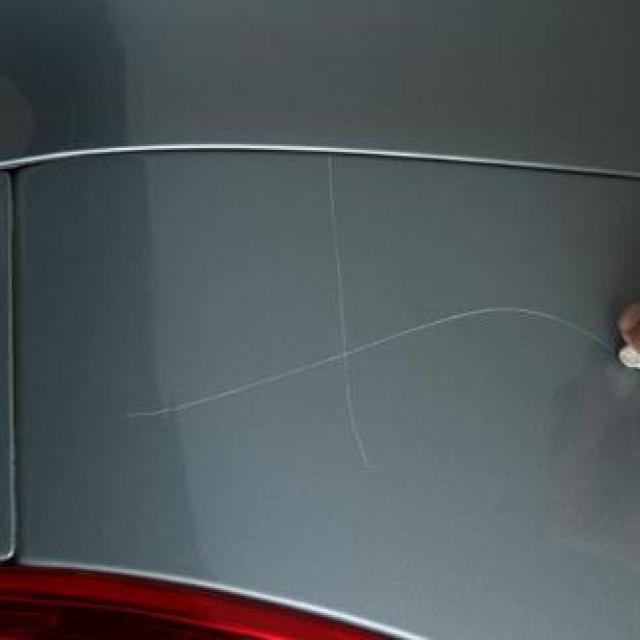scratch: (105, 296, 603, 429), (315, 137, 380, 472)
